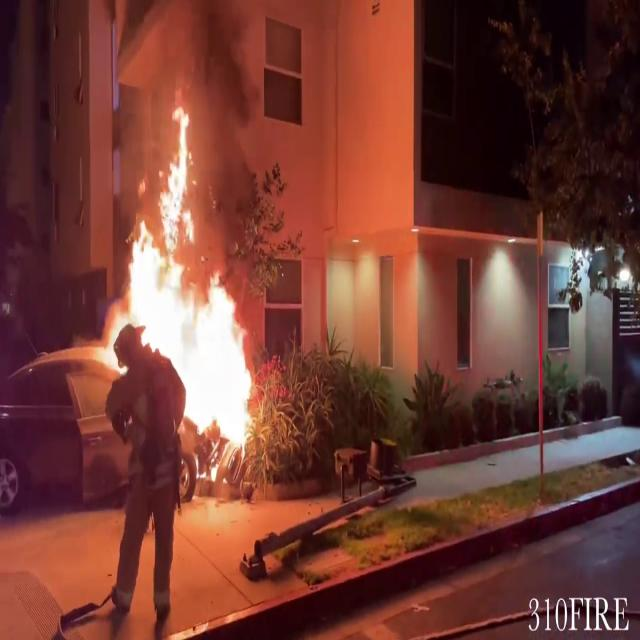Fire: (94, 94, 260, 478)
